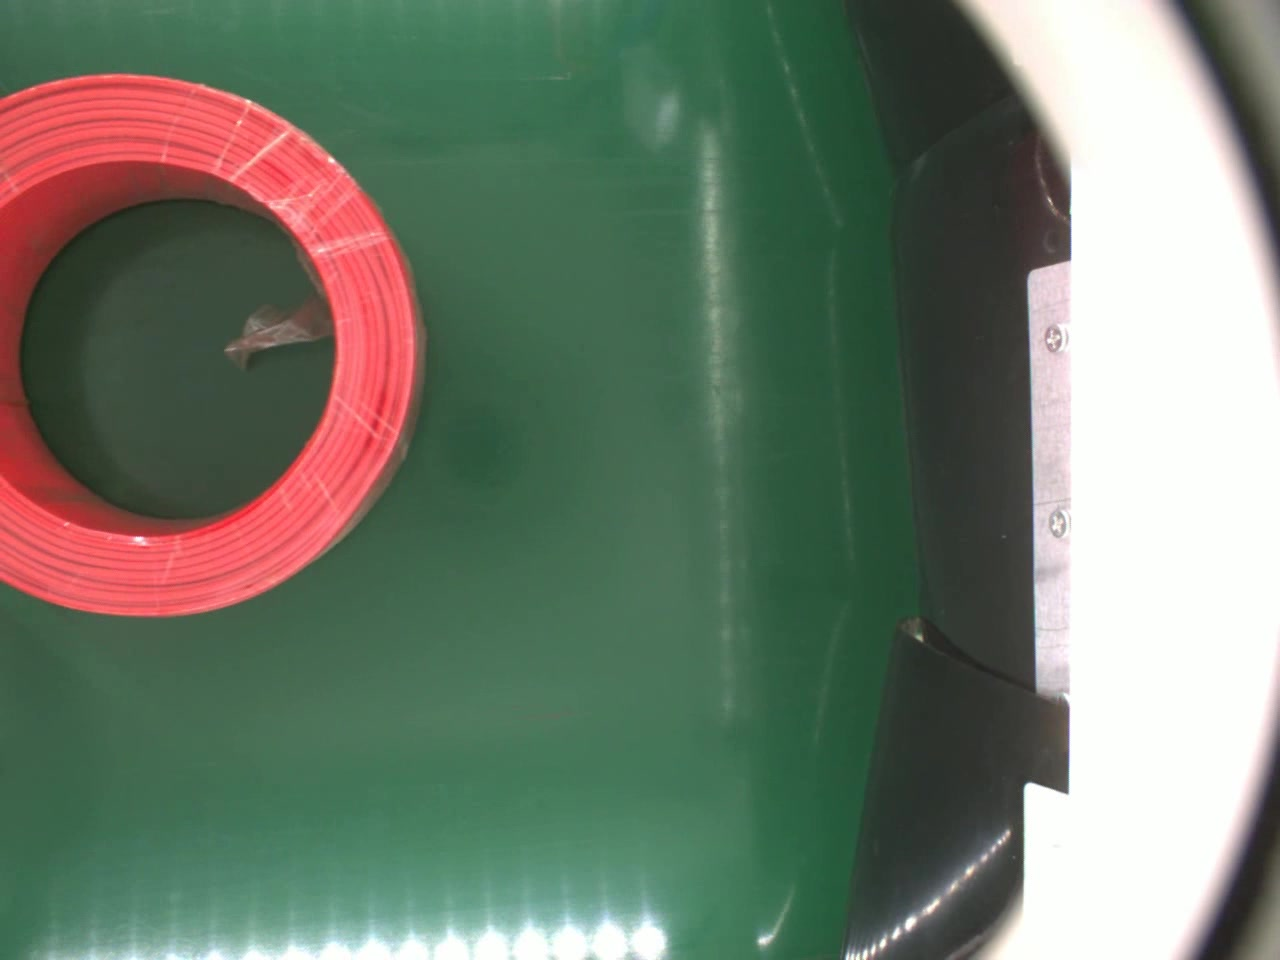red: (0, 71, 429, 622)
